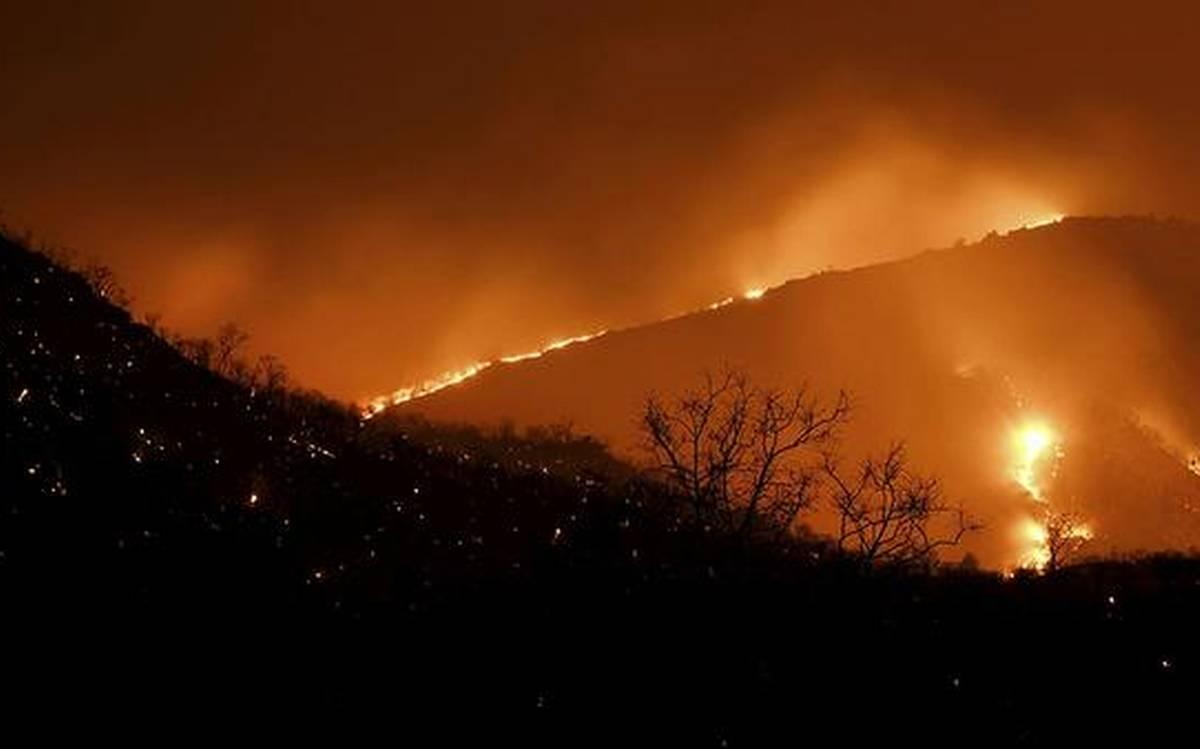fire: (939, 344, 1166, 587), (316, 317, 663, 453), (933, 156, 1116, 291), (662, 226, 839, 333)
